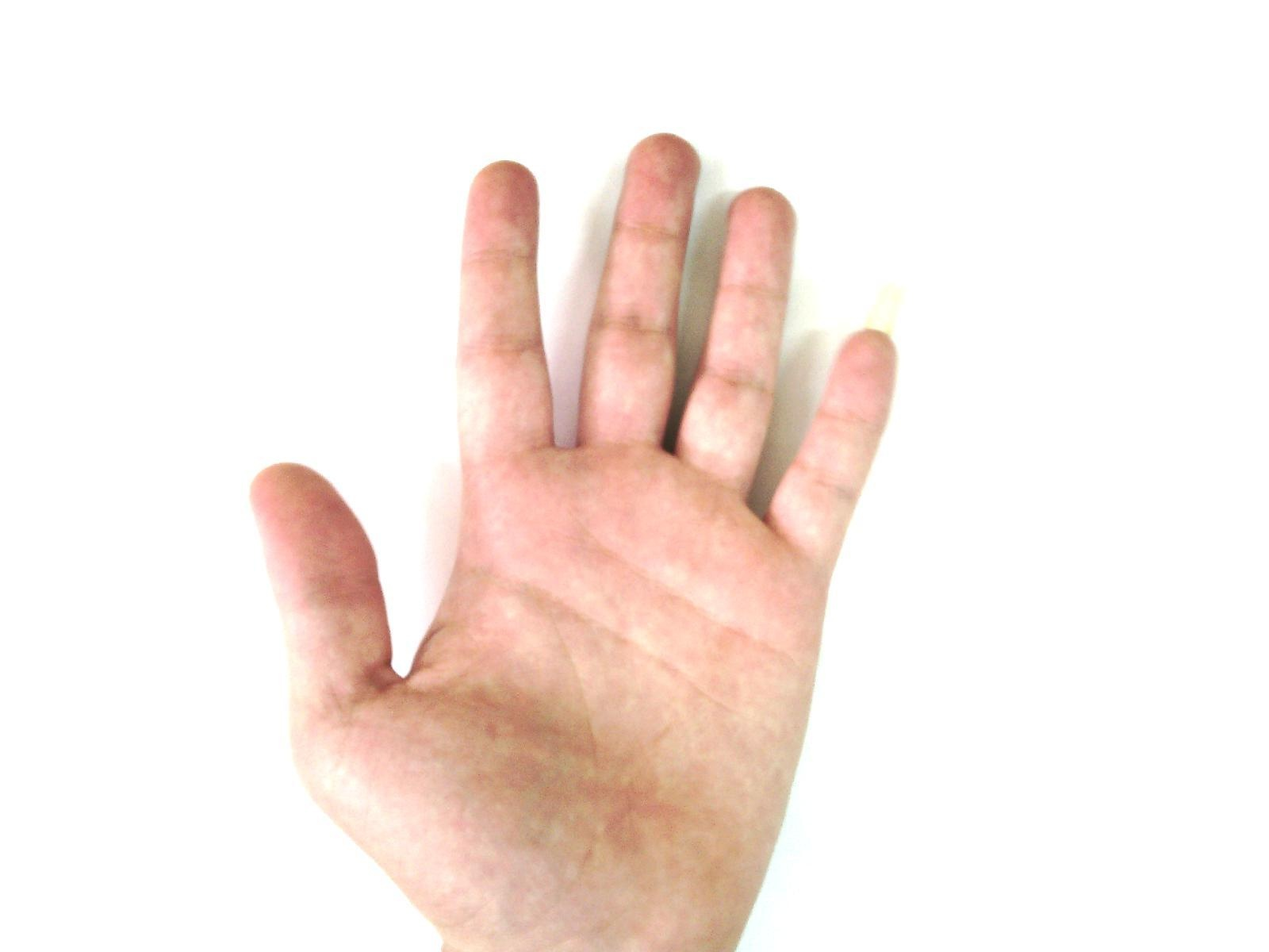open_palm: (247, 132, 902, 951)
